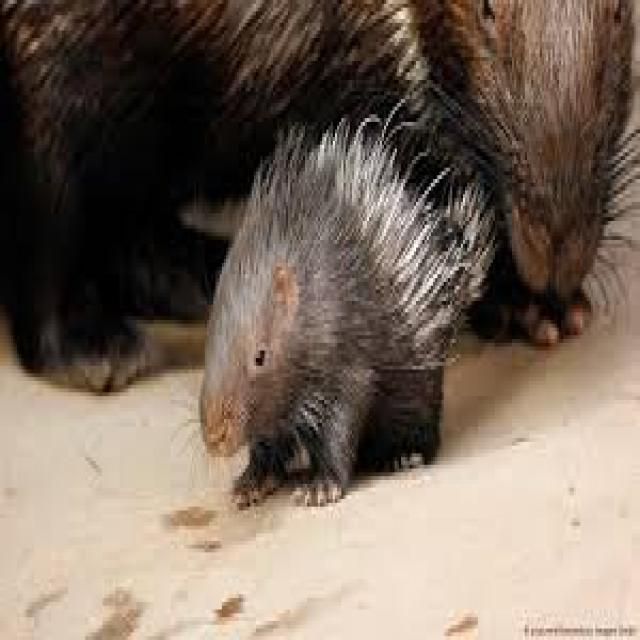Porcupine: (196, 149, 446, 490)
